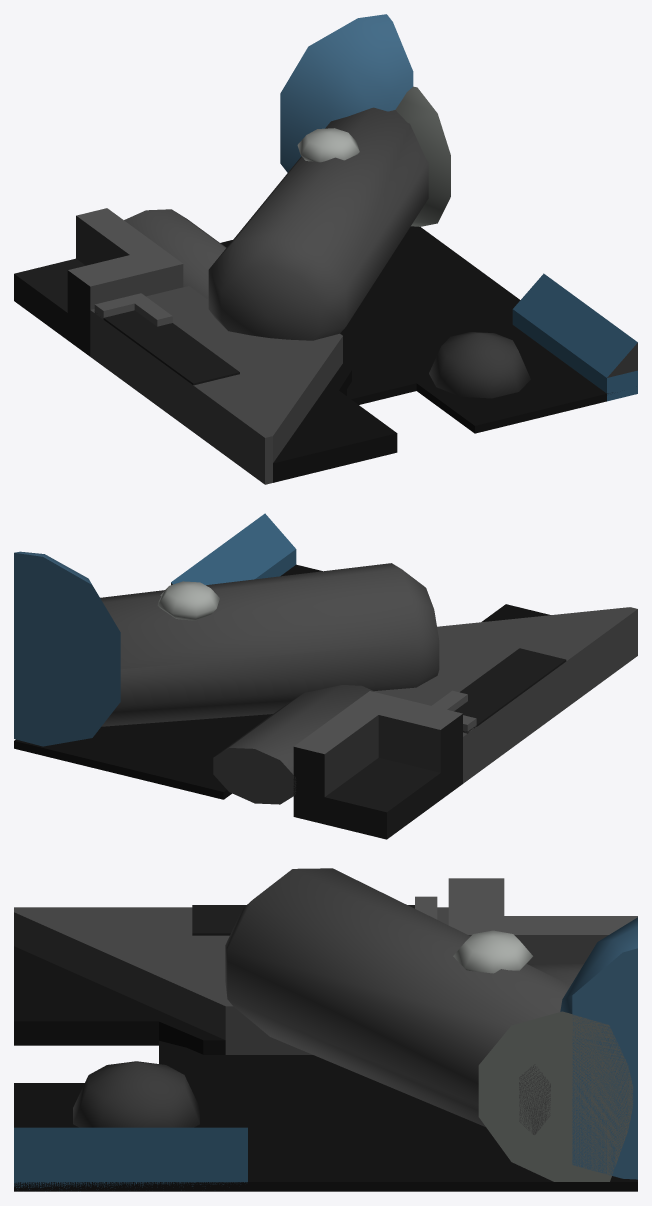
File: newsho-81.glb
The picture shows the model from 3 angles, top to bottom: view 1: azimuth 30°, elevation 25°; view 2: azimuth 150°, elevation 25°; view 3: azimuth 270°, elevation 25°; orthographic projection. The views are drawn at different scales.
Visible parts, largest first — view 1: newsho-81; view 2: newsho-81; view 3: newsho-81.
Part boxes in pixels (<box>): newsho-81: <box>14,14,637,484</box>; newsho-81: <box>14,513,637,839</box>; newsho-81: <box>14,868,637,1191</box>.
Size of the model in its own units: 2 by 1.02 by 2.33.
